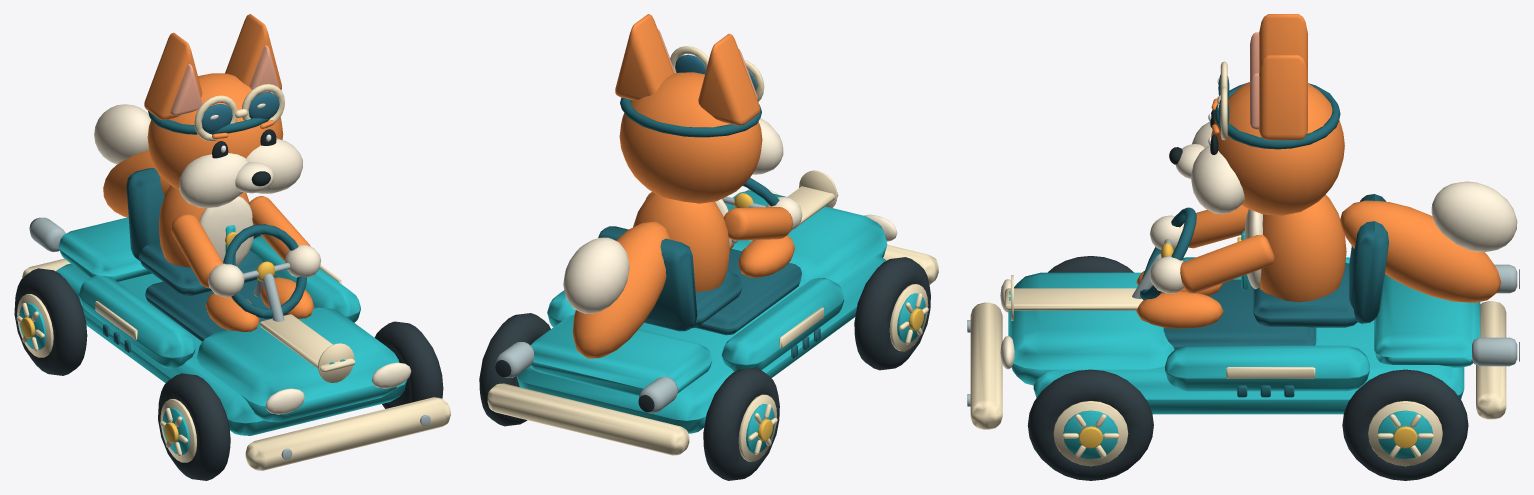
Rendered from kart.glb.
3 views of the same model, side by side, from view 1: azimuth 30°, elevation 25°; view 2: azimuth 150°, elevation 25°; view 3: azimuth 270°, elevation 25° (orthographic). The views are drawn at different scales.
Parts seen in each view (by area): view 1: Nose, FrontBumper, Chassis, FoxHead, SidePod-1, TireRearL, TireFrontL, RearDeck, TireFrontR, FoxCheek-1, Footwell, FoxTailTip (+35 smaller); view 2: FoxHead, Chassis, RearDeck, RearBumper, FoxTail, Nose, SidePod-1, TireRearL, TireFrontL, FoxBody, FoxTailTip, FoxEarL (+21 smaller); view 3: Nose, FoxHead, Chassis, FoxTail, SidePod1, RearDeck, TireRearR, TireFrontR, FoxBody, FoxTailTip, Footwell, FoxEarR (+22 smaller).
Part boxes in pixels (x1,y1,x2,y2): Nose: [196, 307, 399, 422]; FrontBumper: [245, 397, 450, 470]; Chassis: [56, 263, 407, 435]; FoxHead: [147, 73, 283, 190]; SidePod-1: [79, 275, 195, 368]; TireRearL: [14, 268, 87, 375]; TireFrontL: [158, 373, 230, 480]; RearDeck: [58, 217, 151, 281]; TireFrontR: [374, 321, 443, 408]; FoxCheek-1: [179, 153, 247, 208]; Footwell: [145, 275, 317, 341]; FoxTailTip: [94, 104, 150, 164]; FoxHead: [619, 72, 762, 203]; Chassis: [516, 256, 886, 433]; RearDeck: [530, 315, 712, 396]; RearBumper: [487, 383, 689, 455]; FoxTail: [572, 221, 670, 358]; Nose: [725, 190, 887, 292]; SidePod-1: [721, 278, 844, 371]; TireRearL: [703, 367, 779, 480]; TireFrontL: [854, 257, 930, 370]; FoxBody: [633, 192, 729, 292]; FoxTailTip: [563, 237, 629, 313]; FoxEarL: [698, 33, 760, 125]; Nose: [1008, 272, 1174, 385]; FoxHead: [1211, 82, 1344, 215]; Chassis: [1033, 320, 1464, 414]; FoxTail: [1340, 200, 1501, 302]; SidePod1: [1165, 345, 1369, 391]; RearDeck: [1374, 274, 1480, 367]; TireRearR: [1342, 369, 1468, 480]; TireFrontR: [1027, 369, 1153, 480]; FoxBody: [1259, 194, 1346, 302]; FoxTailTip: [1431, 181, 1517, 252]; Footwell: [1163, 279, 1316, 349]; FoxEarR: [1259, 55, 1307, 140].
Size of the model in its own units: 2 by 2.6 by 3.33.
